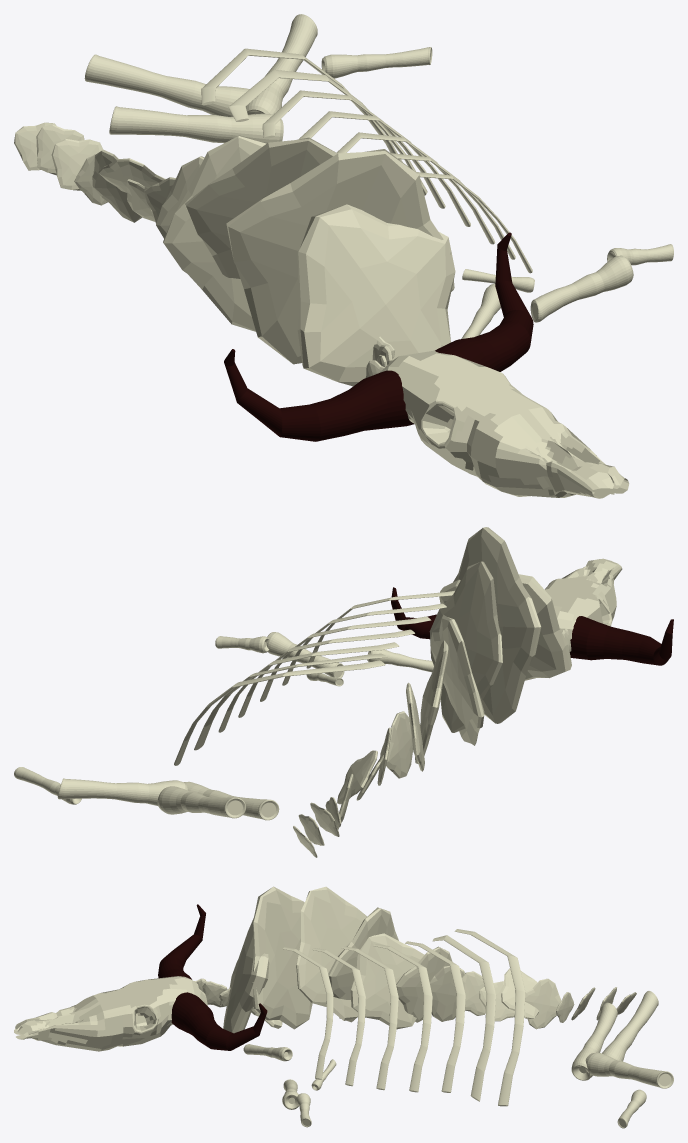
Rendered from skeleton.glb.
3 views of the same model, one above another, from view 1: azimuth 30°, elevation 25°; view 2: azimuth 150°, elevation 25°; view 3: azimuth 270°, elevation 25° (orthographic). The views are drawn at different scales.
Parts seen in each view (by area): view 1: Cube.010, Cube, Cube.011, Cylinder, Cylinder.009, Cube.012, Cube.013, Cylinder.008, Cylinder.005, Cylinder.002, Cylinder.006, Cylinder.007 (+9 smaller); view 2: Cube.011, Cylinder.009, Cube.012, Cylinder, Cube, Cube.013, Cube.010, Cylinder.006, Cylinder.005, Cube.014, Cube.016, Cylinder.008 (+6 smaller); view 3: Cylinder.009, Cube, Cube.011, Cube.012, Cylinder, Cube.014, Cube.010, Cube.013, Cube.015, Cylinder.006, Cylinder.005, Cylinder.008 (+10 smaller).
Part boxes in pixels (box(x1,y1,x2,y2)): Cube.010: box(297, 204, 455, 386); Cube: box(380, 350, 629, 498); Cube.011: box(226, 149, 454, 364); Cylinder: box(224, 232, 533, 441); Cylinder.009: box(201, 48, 532, 273); Cube.012: box(185, 137, 337, 278); Cube.013: box(163, 135, 266, 331); Cylinder.008: box(109, 106, 283, 143); Cylinder.005: box(84, 54, 254, 116); Cylinder.002: box(530, 255, 633, 322); Cylinder.006: box(246, 14, 317, 114); Cylinder.007: box(321, 47, 432, 78); Cube.011: box(453, 527, 541, 723); Cylinder.009: box(174, 590, 454, 765); Cube.012: box(429, 561, 502, 732); Cylinder: box(391, 587, 673, 665); Cube: box(544, 558, 622, 655); Cube.013: box(430, 614, 484, 745); Cube.010: box(439, 574, 571, 680); Cylinder.006: box(57, 778, 187, 805); Cylinder.005: box(157, 786, 245, 818); Cube.014: box(415, 640, 448, 763); Cube.016: box(386, 711, 412, 778); Cylinder.008: box(184, 781, 279, 820); Cylinder.009: box(283, 929, 525, 1106); Cube: box(14, 976, 207, 1051); Cube.011: box(251, 886, 312, 1029); Cube.012: box(296, 886, 367, 1020); Cylinder: box(158, 904, 267, 1050); Cube.014: box(350, 933, 424, 1029); Cube.010: box(223, 918, 269, 1033); Cube.013: box(328, 907, 398, 1022); Cube.015: box(396, 946, 452, 1022); Cylinder.006: box(585, 1052, 673, 1088); Cylinder.005: box(602, 991, 658, 1061); Cylinder.008: box(571, 1002, 617, 1080).
Bounding box in the file's own units: 9.55 × 4.01 × 16.05.
